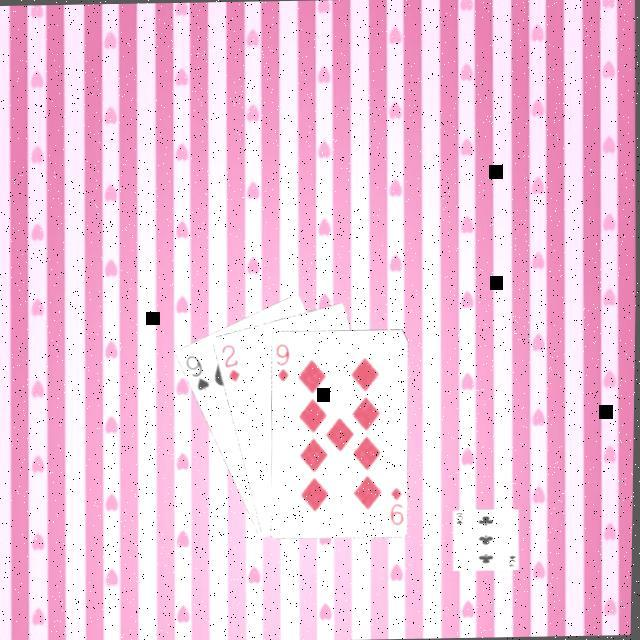2D: (220, 342, 247, 387)
9D: (388, 484, 408, 530), (276, 342, 296, 386)
9S: (183, 353, 216, 396)
